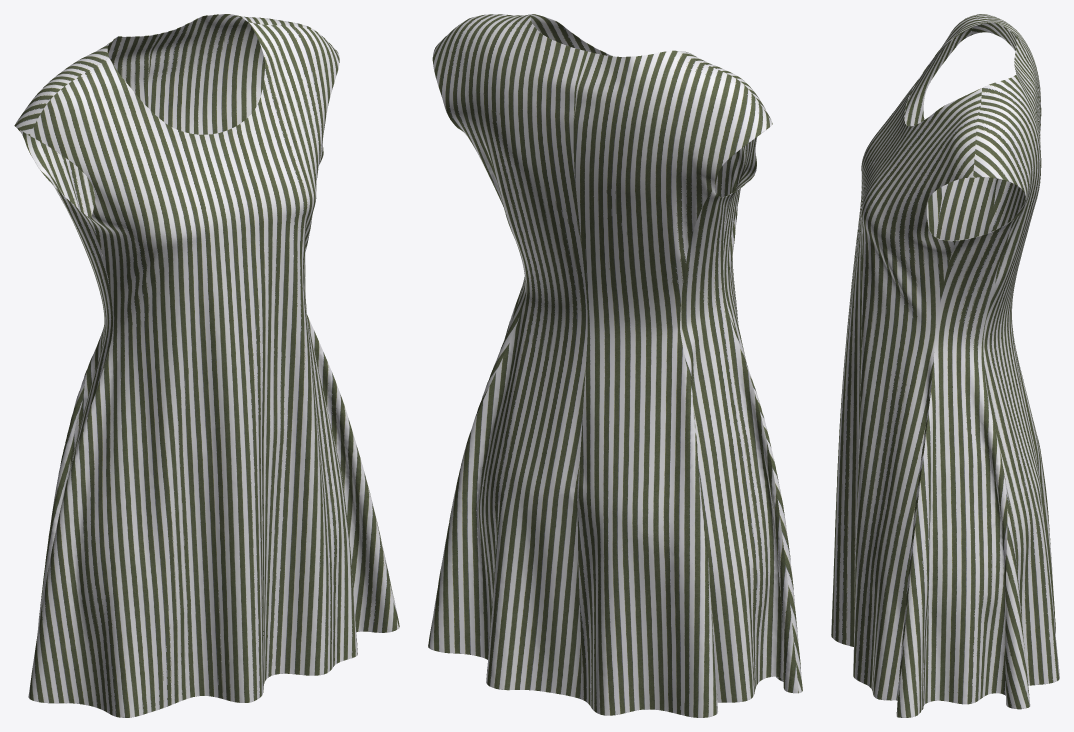
The picture shows the model from 3 angles, left to right: view 1: azimuth 30°, elevation 25°; view 2: azimuth 150°, elevation 25°; view 3: azimuth 270°, elevation 25°; orthographic projection. The views are drawn at different scales.
Parts seen in each view (by area): view 1: 1, 2; view 2: 2, 1; view 3: 2, 1.
Boxes of the visible parts, x1,y1,x2,y2 form: 1: (28, 22, 398, 717); 2: (14, 14, 399, 636); 2: (428, 14, 798, 717); 1: (479, 14, 802, 692); 2: (897, 14, 1059, 717); 1: (831, 15, 981, 716).
Bounding box in the file's own units: 47.6 × 81.01 × 28.01.
2 materials, 2 textured.
